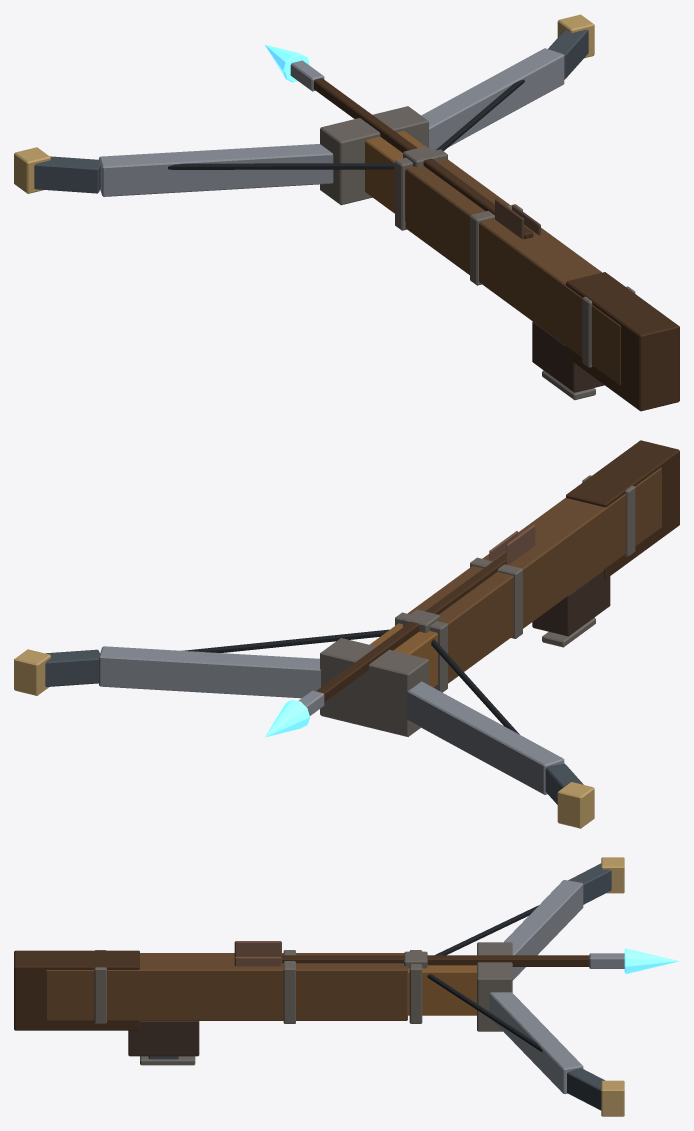
The model's file is mdl_weapon_crossbow_v1.glb.
The picture shows the model from 3 angles, top to bottom: view 1: azimuth 30°, elevation 25°; view 2: azimuth 150°, elevation 25°; view 3: azimuth 270°, elevation 25°; orthographic projection. The views are drawn at different scales.
Parts seen in each view (by area): view 1: GEO_Weapon_Crossbow; view 2: GEO_Weapon_Crossbow; view 3: GEO_Weapon_Crossbow.
Part boxes in pixels (left/top/right/bottom): GEO_Weapon_Crossbow: left=14, top=14, right=679, bottom=411; GEO_Weapon_Crossbow: left=14, top=440, right=679, bottom=828; GEO_Weapon_Crossbow: left=14, top=857, right=679, bottom=1116.
Bounding box in the file's own units: 0.7 × 0.1651 × 0.845.
